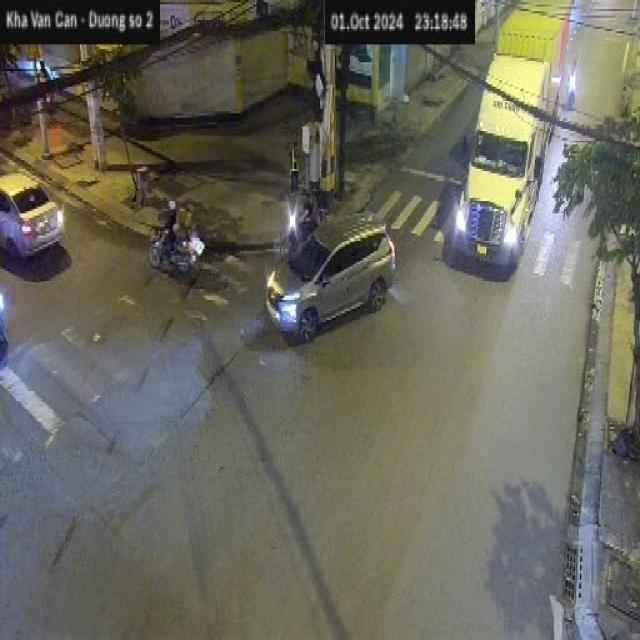car: (264, 209, 395, 342), (0, 169, 64, 262)
container-truck: (443, 0, 576, 283)
motorcycle: (148, 222, 198, 287)
